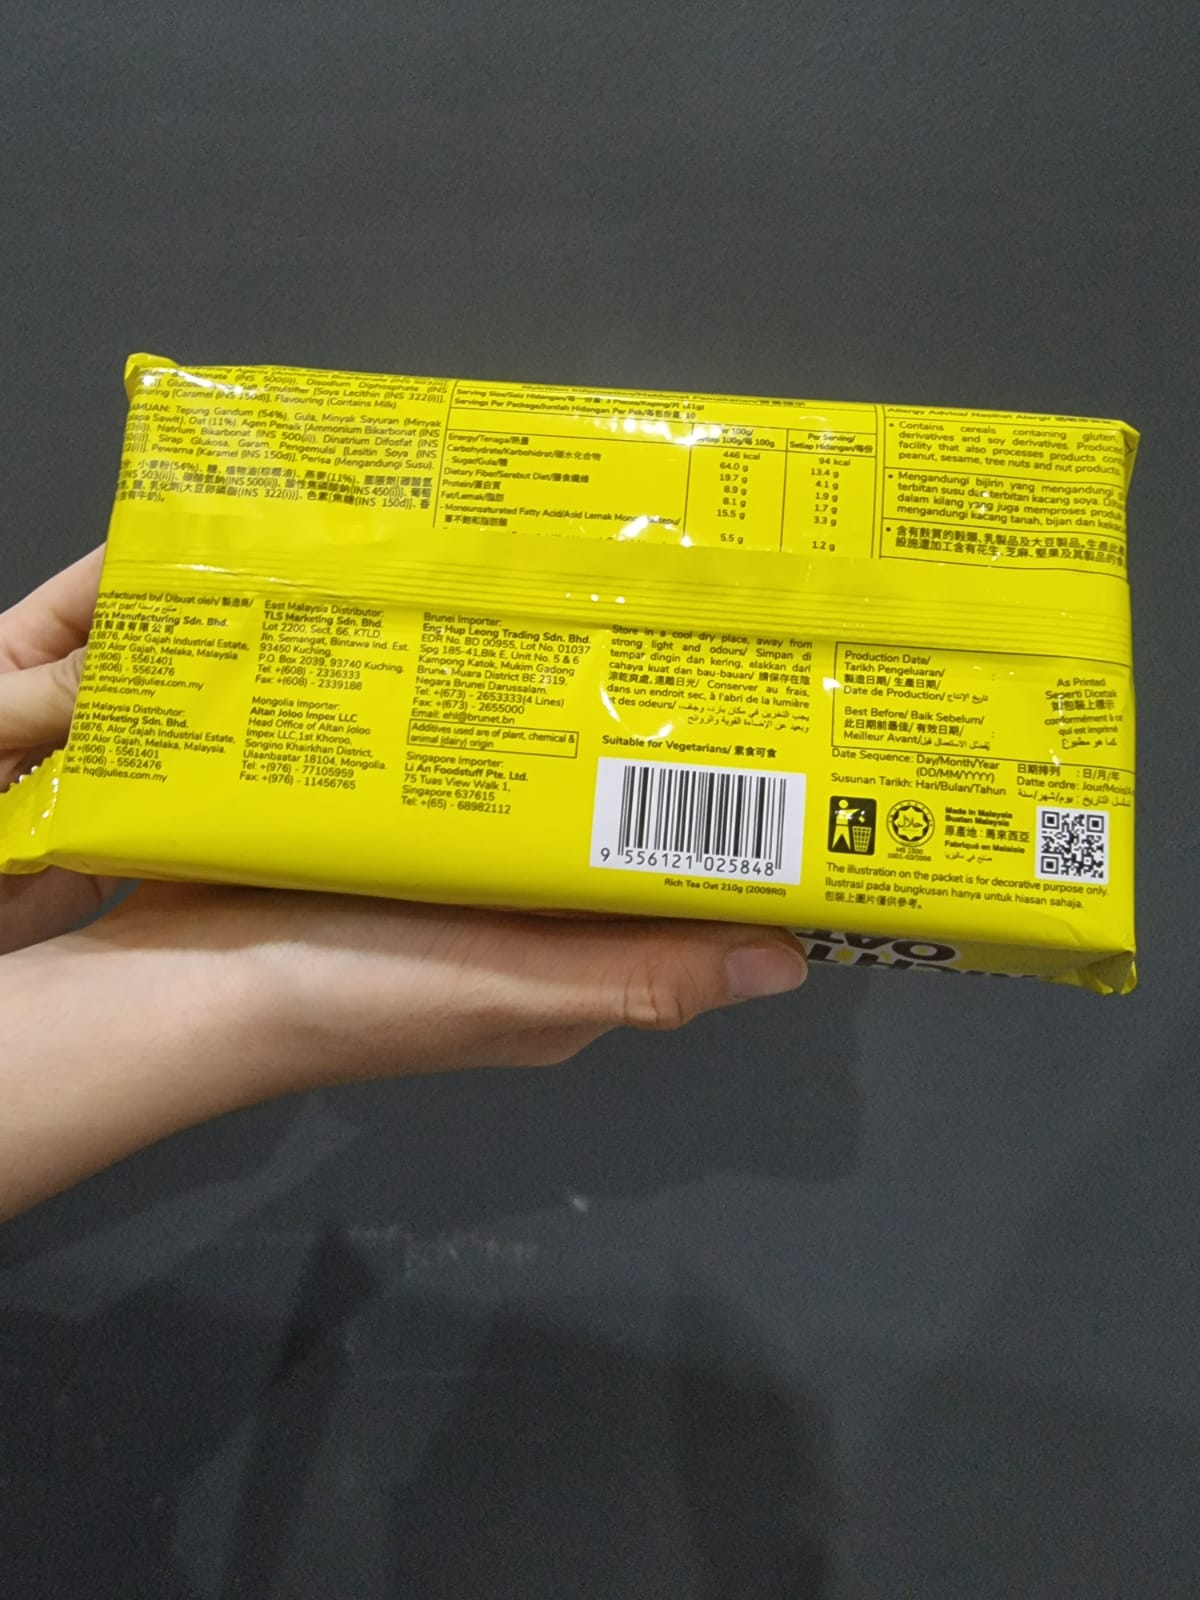Biscuits: (131, 393, 1124, 906)
